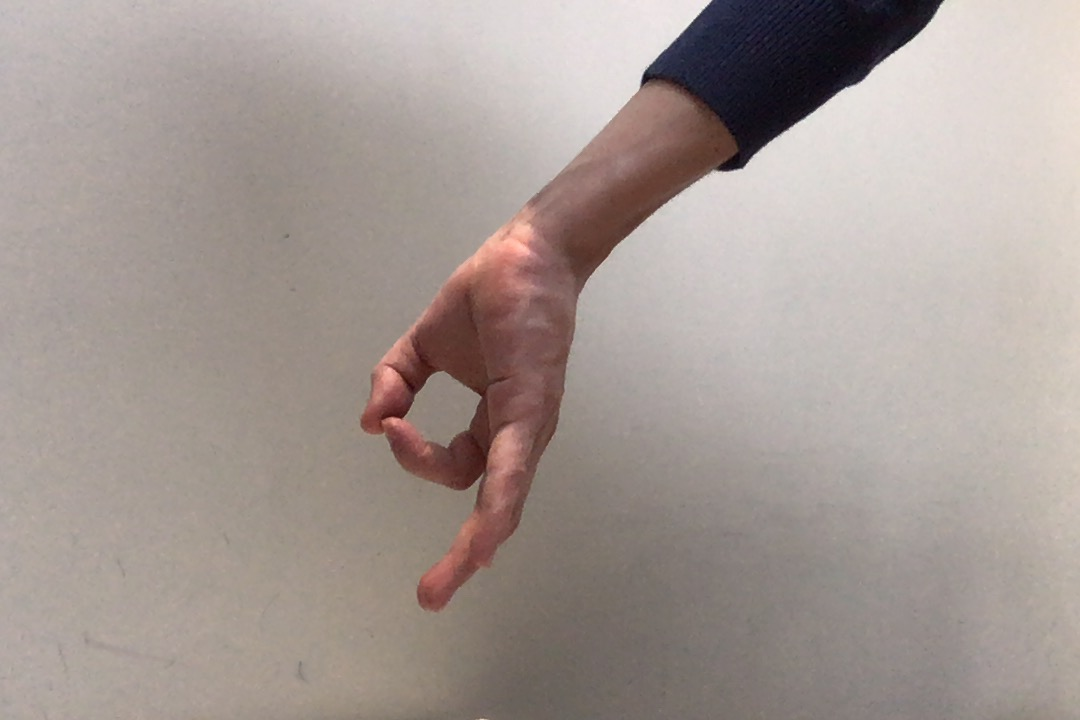oksign: (355, 224, 582, 618)
